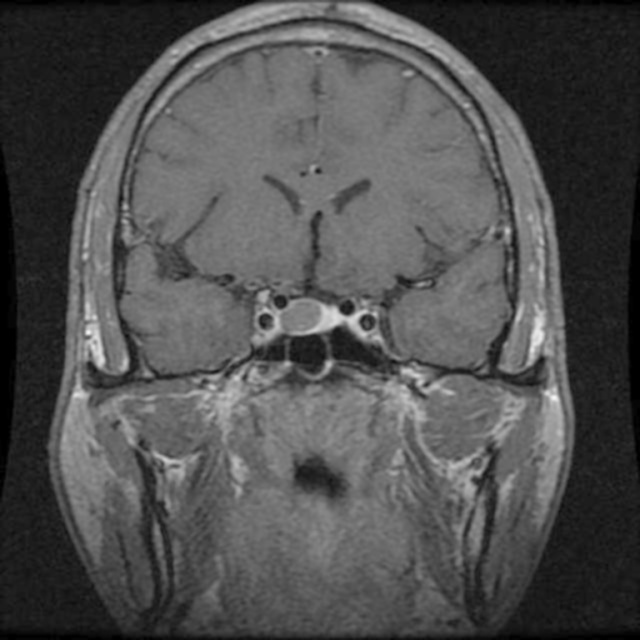no tumor: (271, 286, 355, 349)
